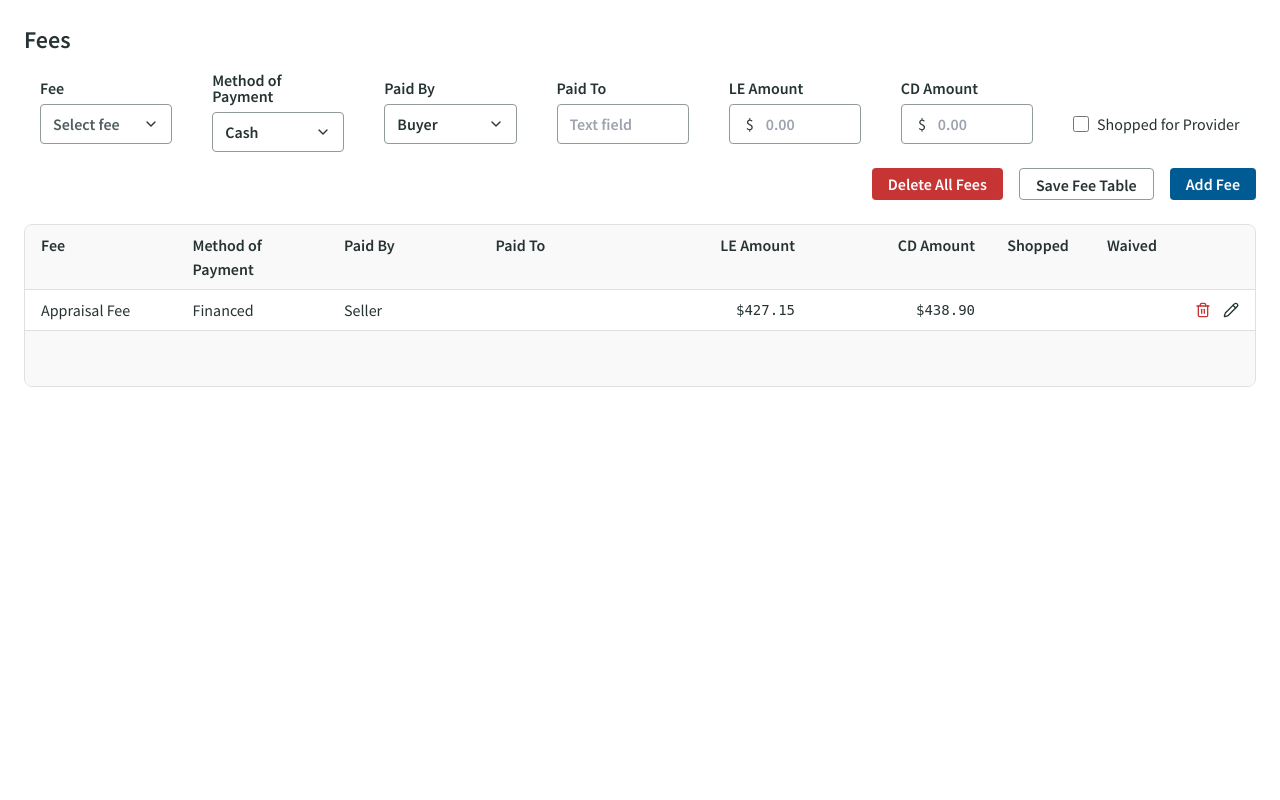
FeesContent › opens and saves a legacy fee with missing optional fields without losing other data
Click the button with test id "button-edit-fee-edit-target" at (1231,310), box [1223,302,1239,318]
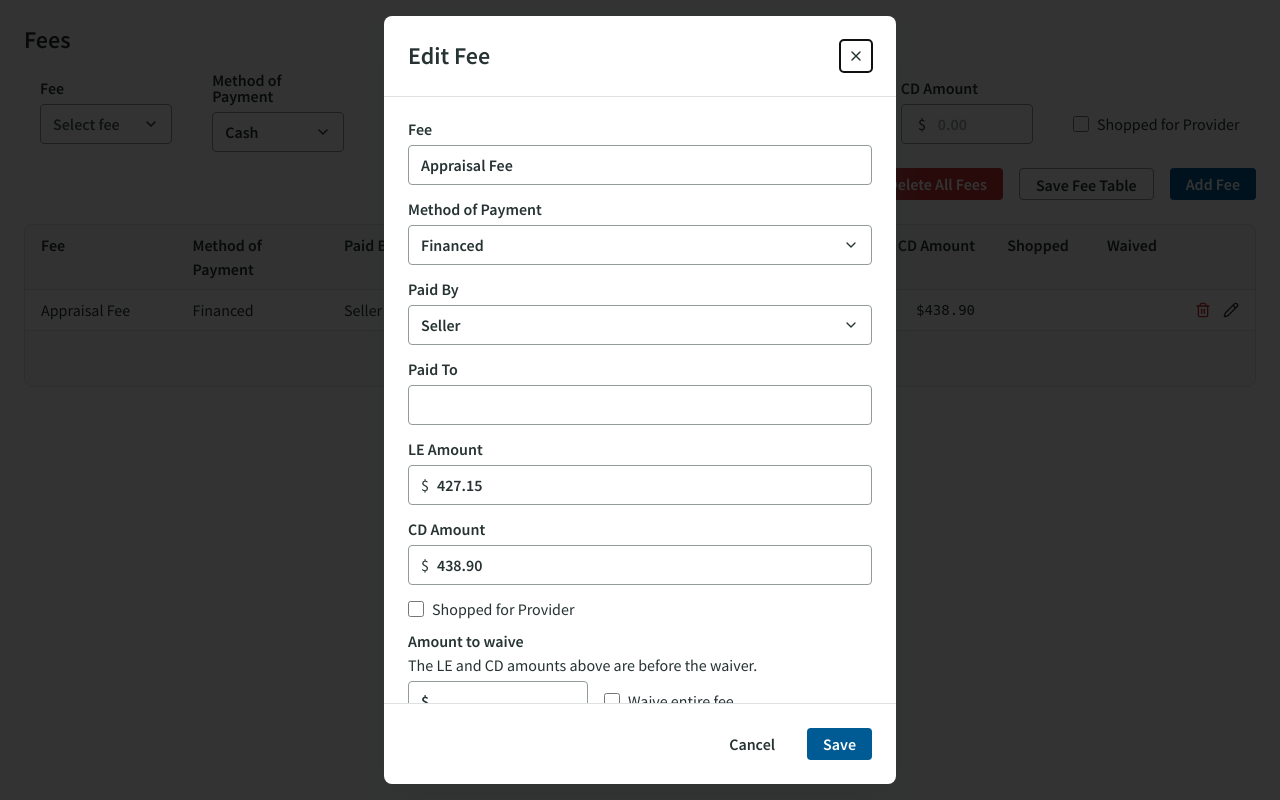
Expected: the field named "Paid To" is empty, [408,385,872,425]
Now the checkbox labelled "Shopped for Provider" is not checked, box [408,601,424,617]
Click the button "Save" at (840,744), box [807,728,872,760]
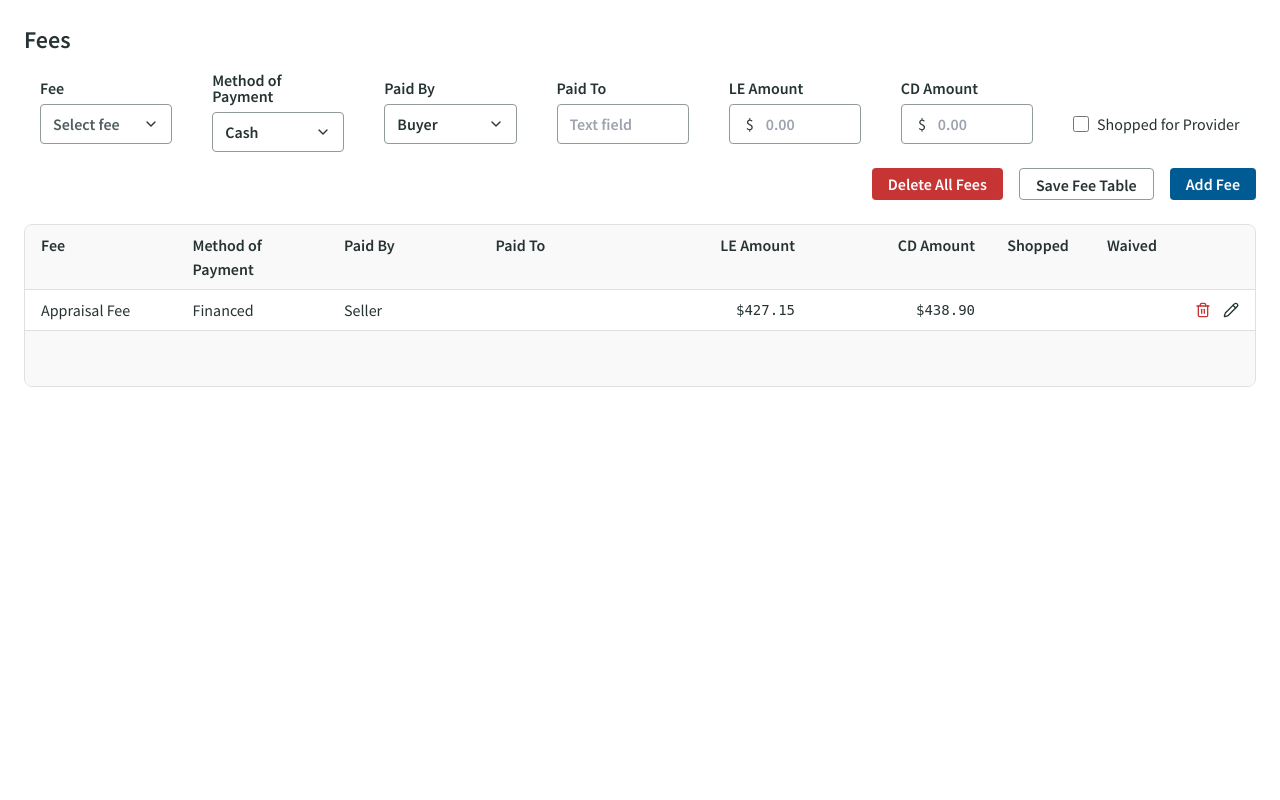
Now the dialog is gone
